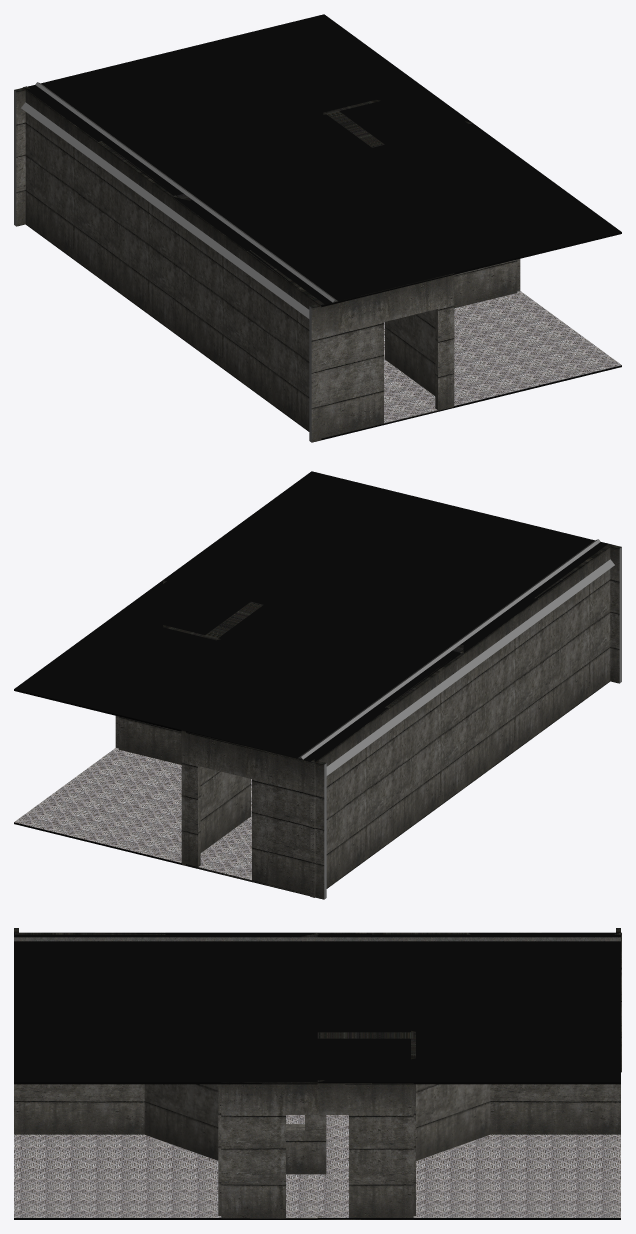
Rendered from HC-WarheadTunnel.fbx.
3 renders of one model, top to bottom at view 1: azimuth 30°, elevation 25°; view 2: azimuth 150°, elevation 25°; view 3: azimuth 270°, elevation 25°, orthographic.
Visible parts, largest first — view 1: node_id10 (×4); view 2: node_id10 (×4); view 3: node_id10 (×4).
Part boxes in pixels (x1,y1,x2,y2): node_id10 (×4): (14,14,621,442); node_id10 (×4): (14,471,621,899); node_id10 (×4): (14,928,621,1219).
Size of the model in its own units: 0.512 by 0.2161 by 0.8522.
Materials: 5 (4 with a texture image).
